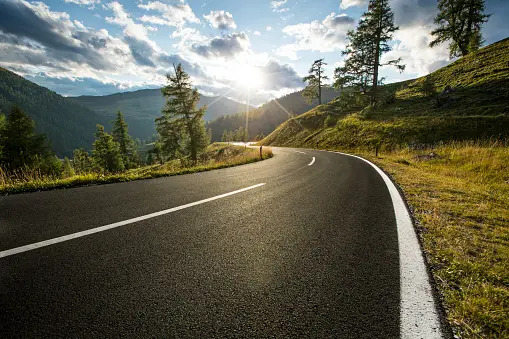leftTrun: (242, 136, 395, 227)
